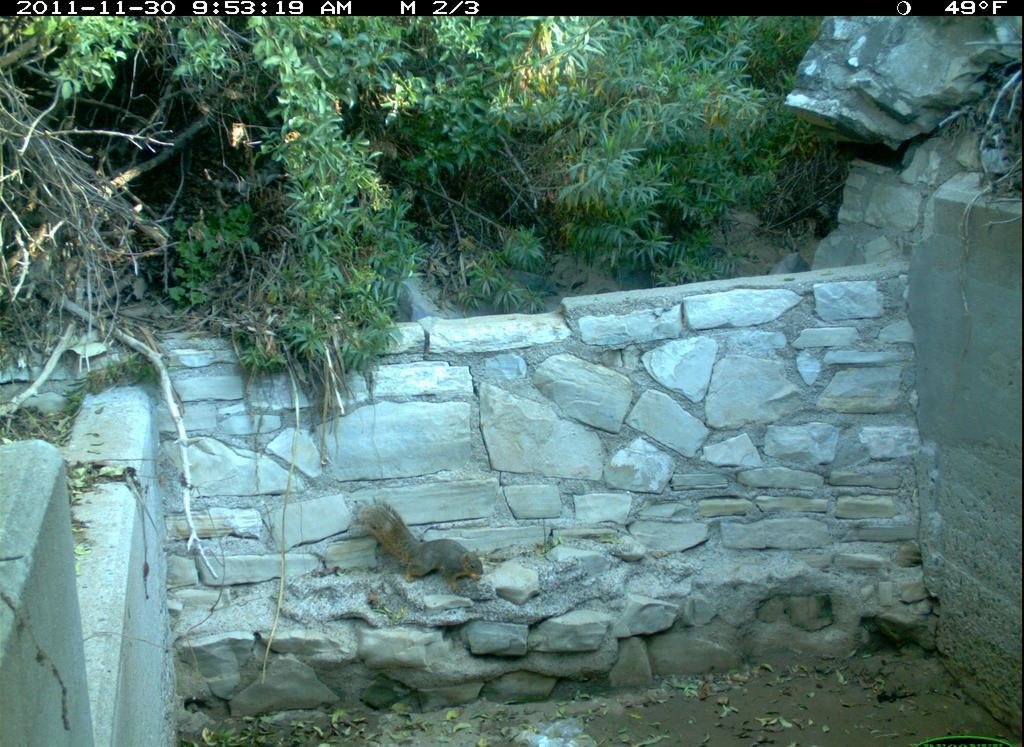squirrel: (349, 488, 501, 606)
